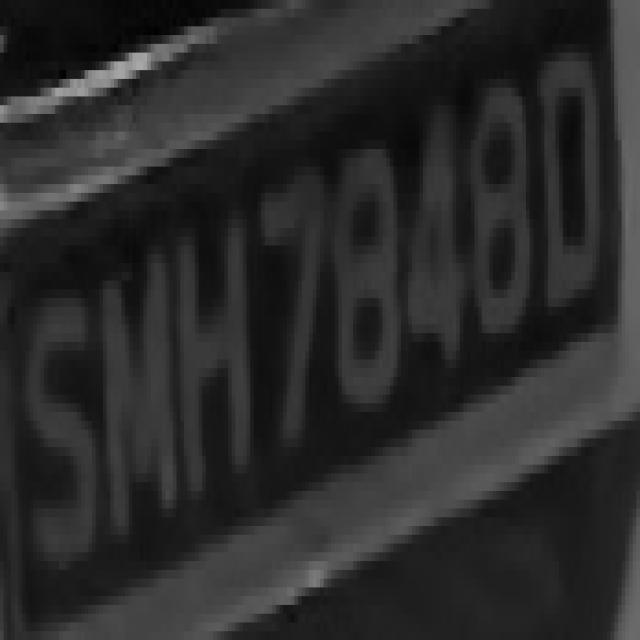4: (390, 79, 471, 429)
7: (254, 158, 324, 526)
8: (464, 70, 544, 403), (327, 114, 401, 447)
D: (530, 44, 607, 324)
H: (169, 193, 258, 535)
M: (92, 228, 177, 561)
S: (22, 280, 96, 605)
